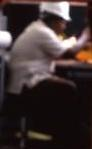hard-hat: (39, 0, 72, 21)
